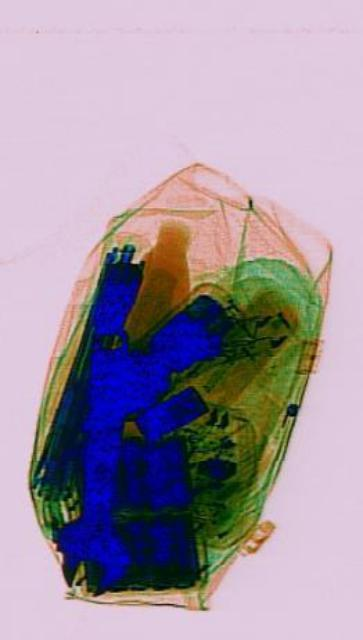Wrench: (52, 314, 148, 604)
